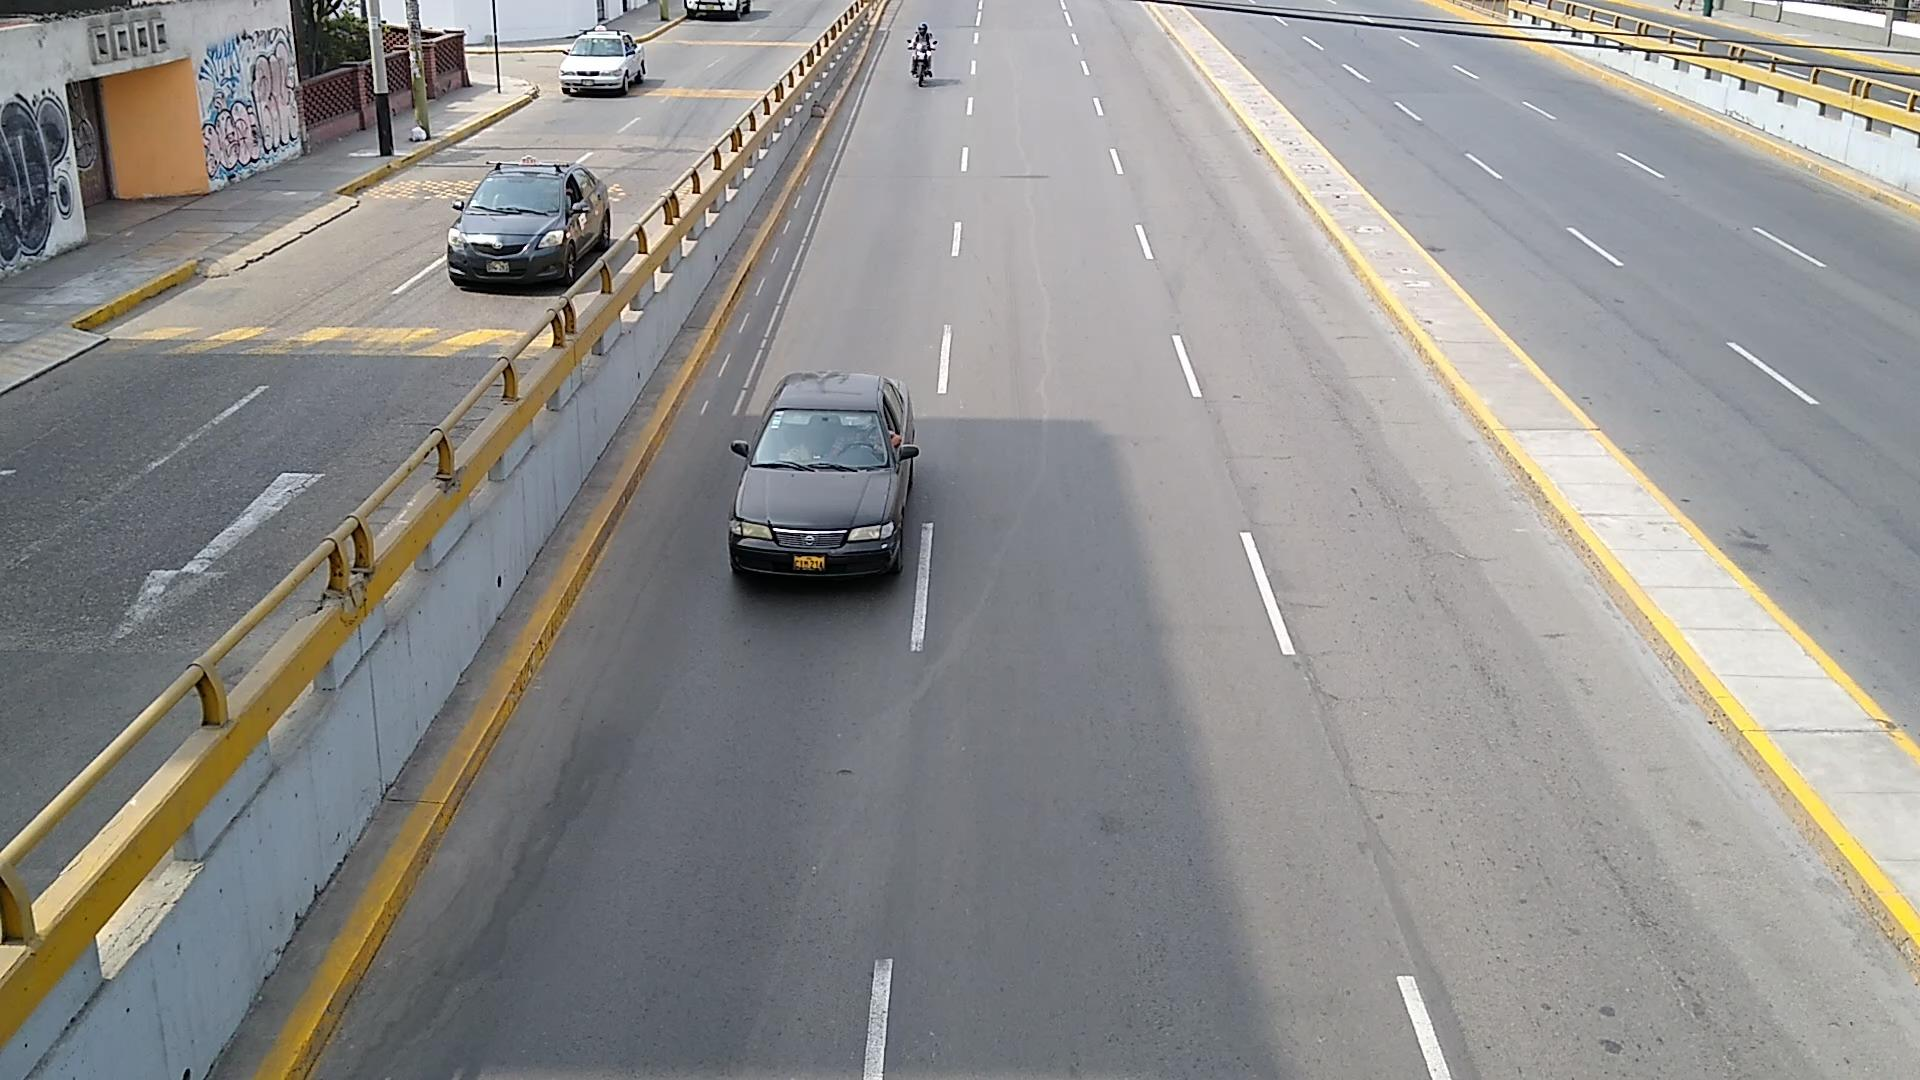car: (728, 371, 919, 578), (446, 161, 611, 289), (559, 30, 645, 92)
motorcyclist: (908, 22, 938, 86)
